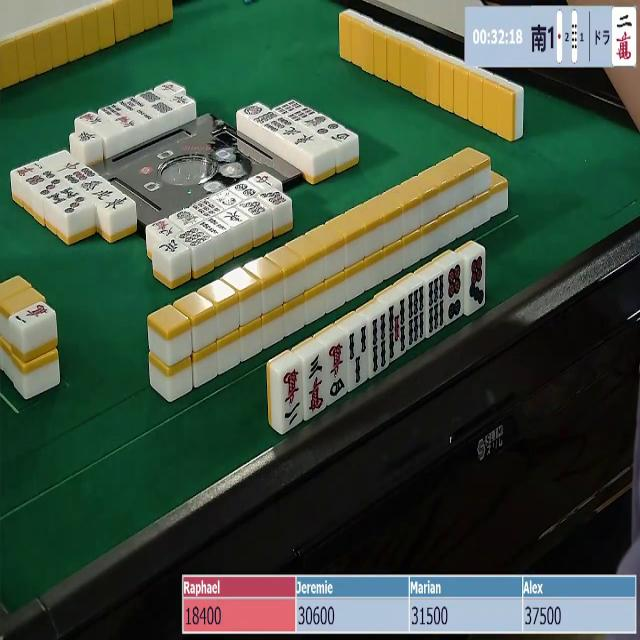2C: (274, 364, 305, 432), (614, 7, 636, 64)
3B: (348, 325, 370, 390)
3C: (304, 353, 328, 418)
4B: (367, 313, 391, 378)
4C: (326, 340, 348, 402)
5B: (385, 300, 408, 360)
6B: (406, 285, 429, 348), (426, 273, 448, 337)
6D: (445, 260, 466, 321)
7D: (465, 250, 486, 313)
